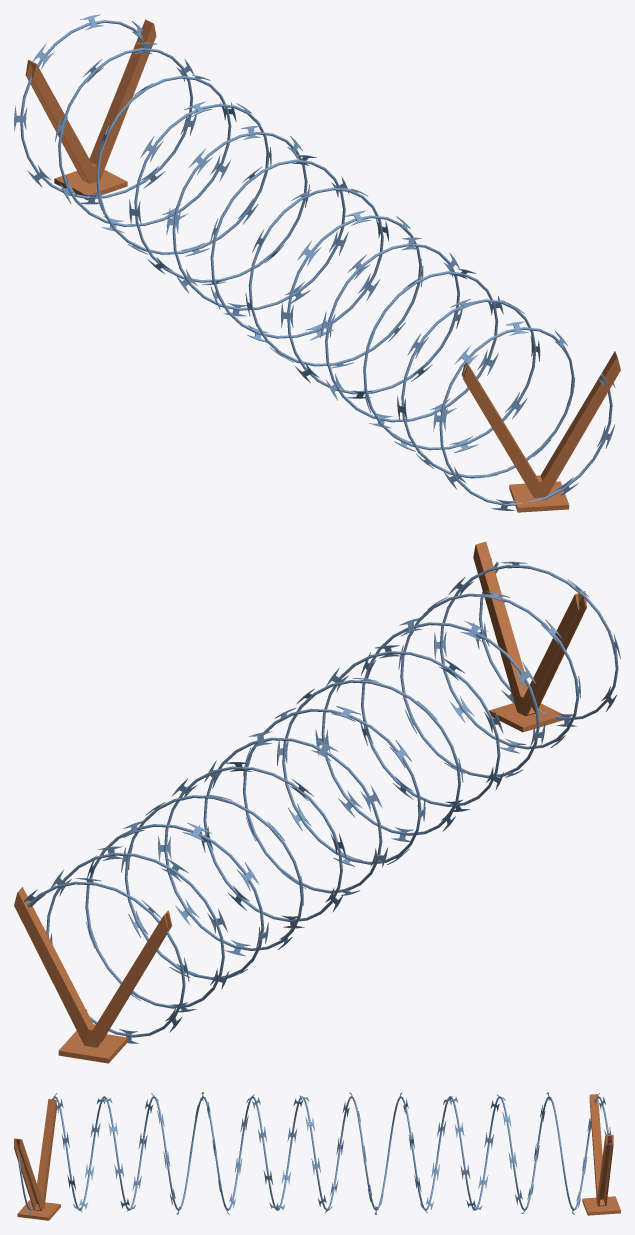
Rendered from barbed wire.fbx.
3 renders of one model, top to bottom at view 1: azimuth 30°, elevation 25°; view 2: azimuth 150°, elevation 25°; view 3: azimuth 270°, elevation 25°, orthographic. The views are drawn at different scales.
Parts seen in each view (by area): view 1: Barbed Wire; view 2: Barbed Wire; view 3: Barbed Wire.
Boxes of the visible parts, x1,y1,x2,y2 form: Barbed Wire: [14, 14, 620, 512]; Barbed Wire: [14, 541, 620, 1063]; Barbed Wire: [14, 1092, 620, 1220].
Size of the model in its own units: 264 by 262 by 1298.
